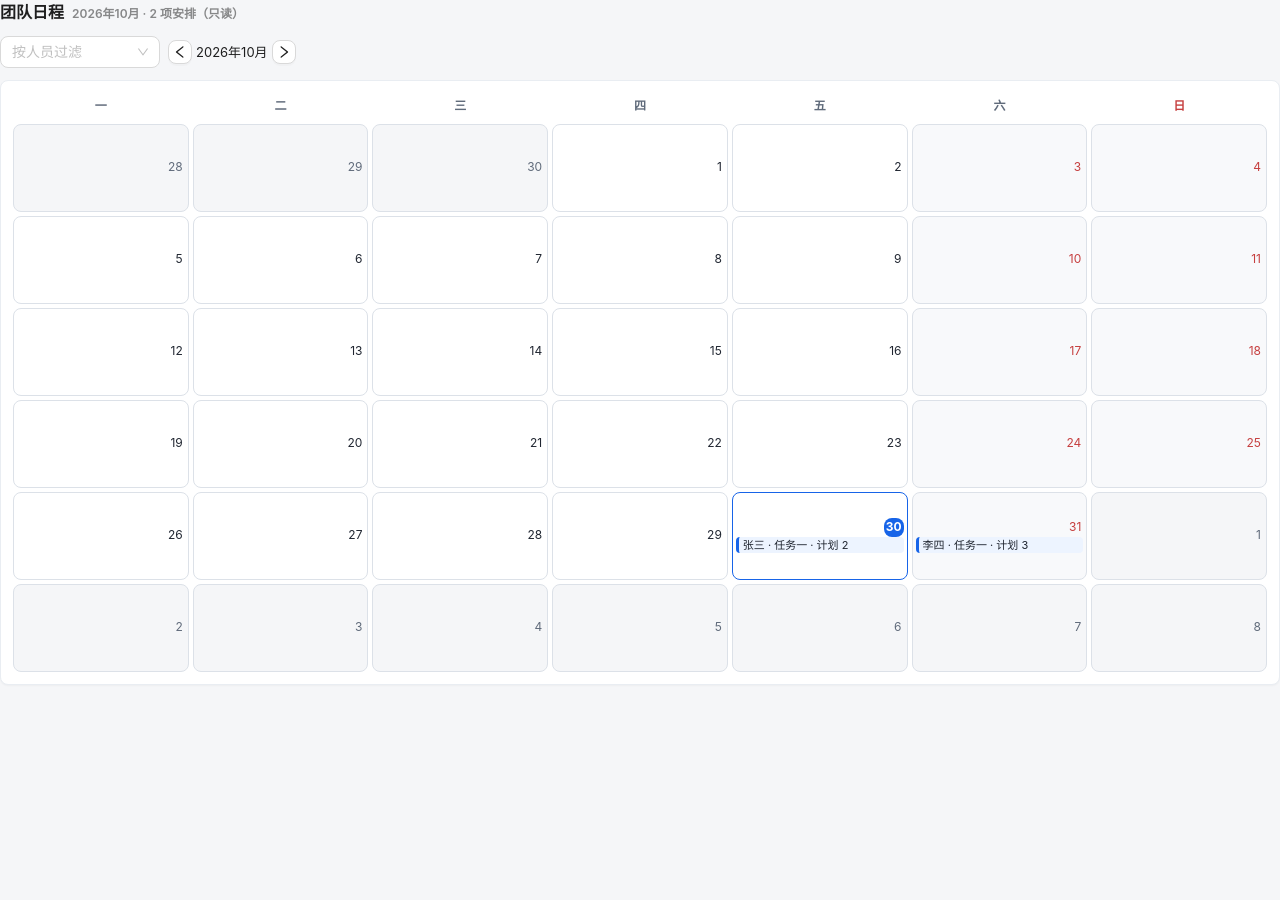
Test: 团队日程（HYPE-88，只读） › 当天明细 Drawer（HYPE-91，只读） › 人员过滤生效时，当天明细同步过滤（仅显示过滤后的人）
The image size is (1280, 900).
Check: the text "张三 · 任务一 · 计划 2" is shown, box left=736, top=537, right=904, bottom=553
Press the mouse on the element showing "按人员过滤" at point(80, 52), box left=0, top=36, right=160, bottom=68
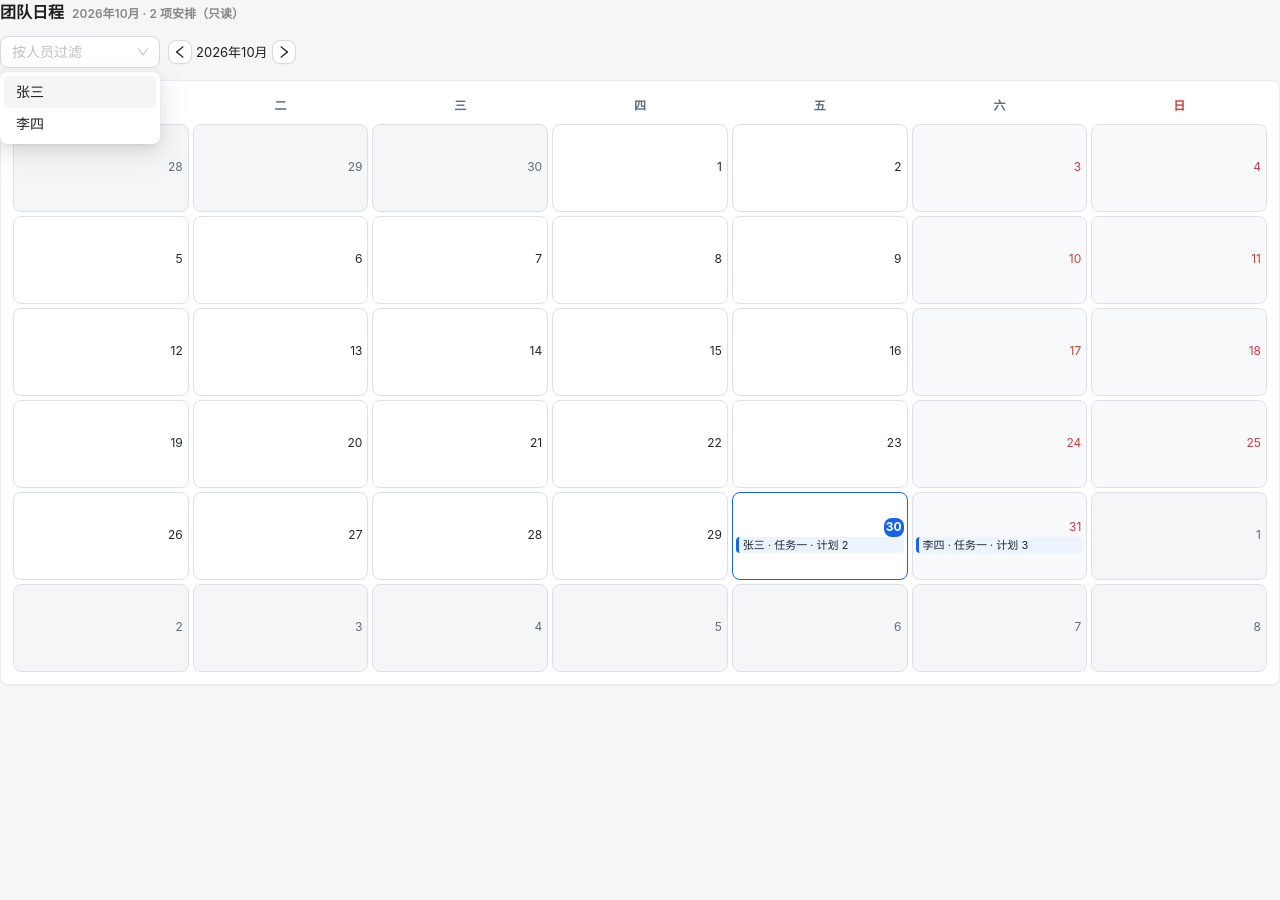
Click the text "李四".
click(30, 124)  # box left=16, top=115, right=44, bottom=132
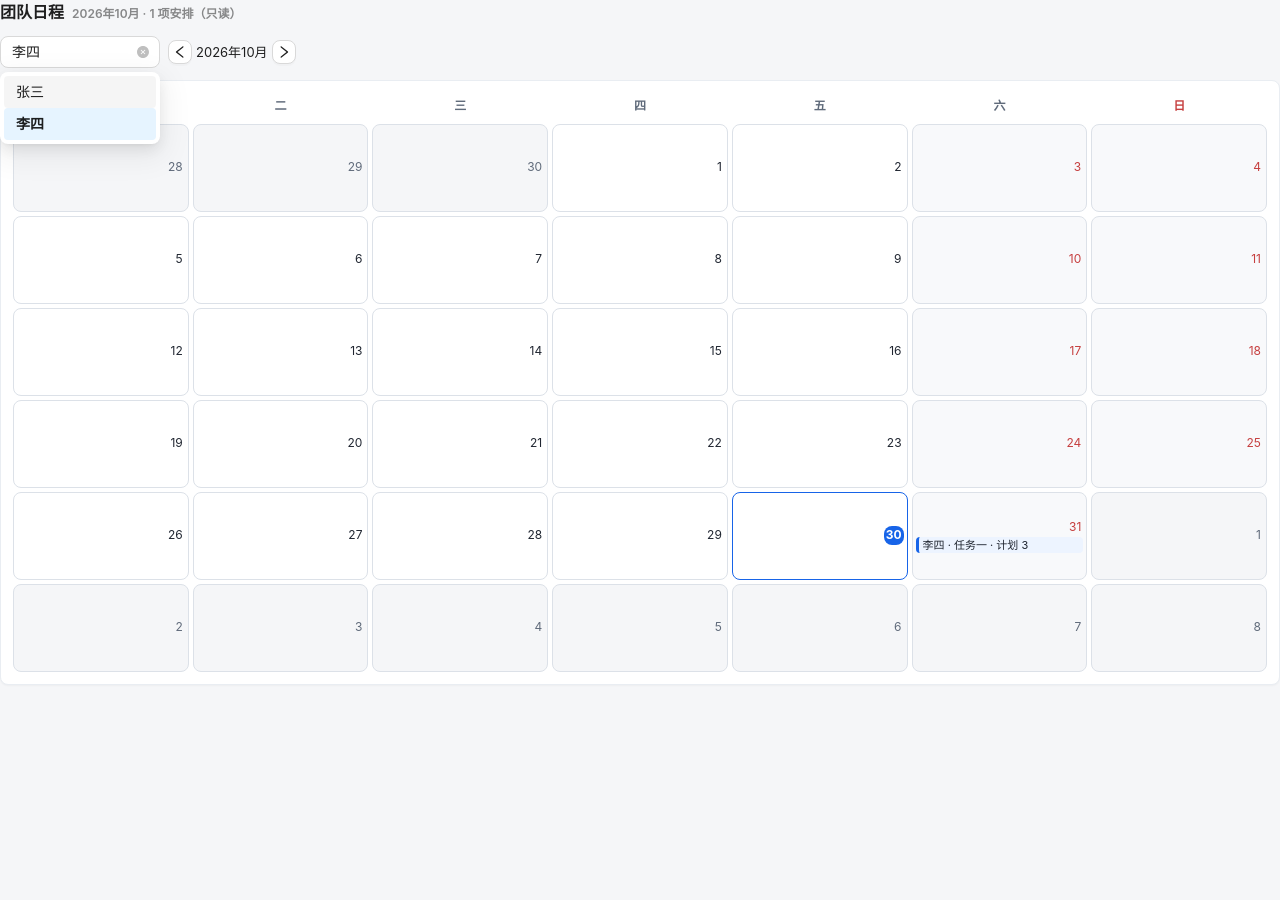
Check: the button "张三 · 任务一" is gone
Click the button "31 李四 · 任务一 · 计划 3".
click(999, 536)  # box left=912, top=492, right=1087, bottom=580
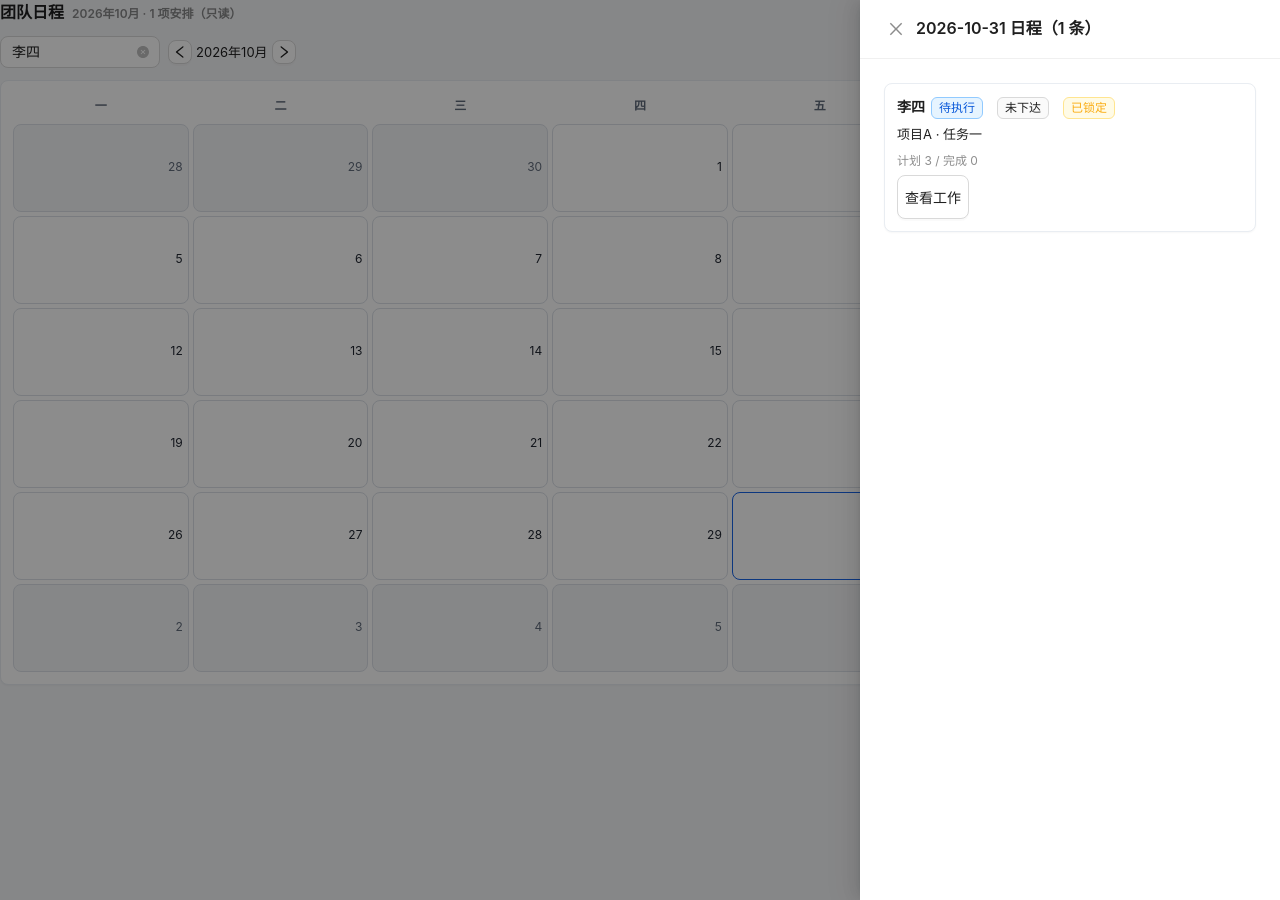
Check: the text "李四" is shown, box left=897, top=98, right=925, bottom=115
Check: the text "张三" is gone
